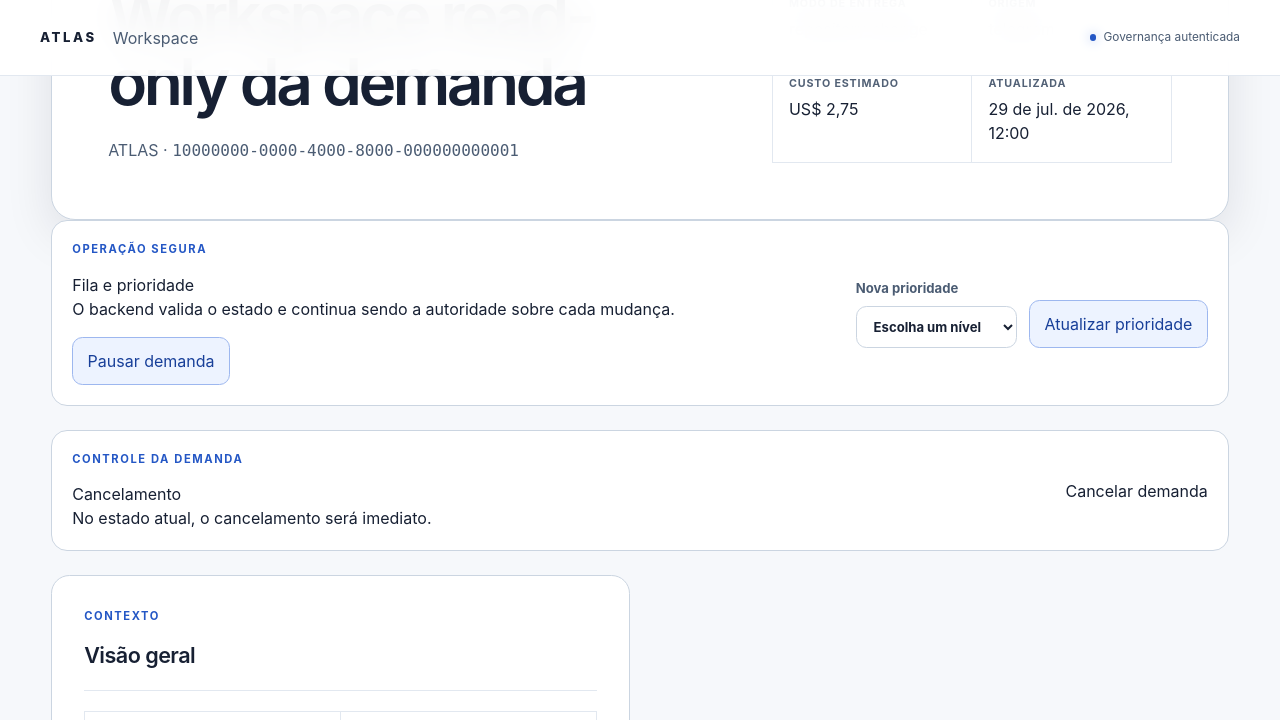
Demand Workspace UI › returns to login on 401 and never renders a remote error body
The image size is (1280, 720).
(page scrolled)
Click the button "Pausar demanda".
click(151, 361)  # box [72, 337, 230, 385]
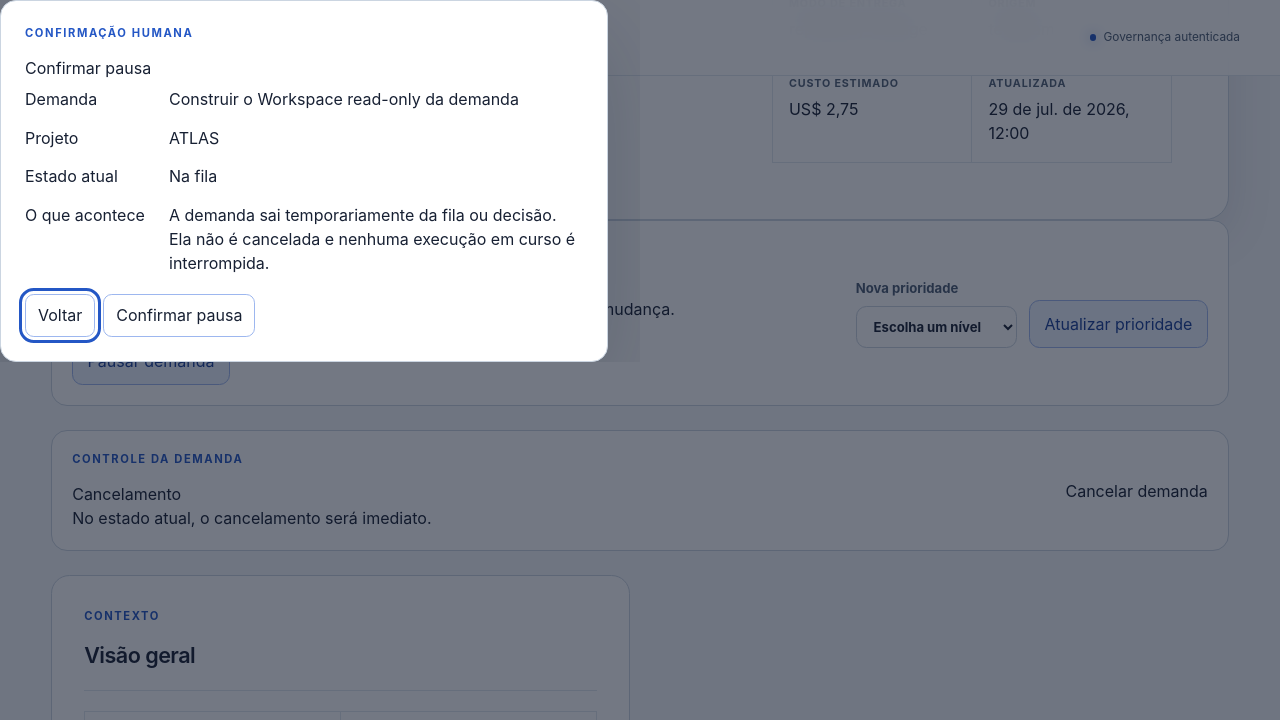
Click the button "Confirmar pausa".
click(179, 316)  # box [103, 294, 256, 337]
(page scrolled)
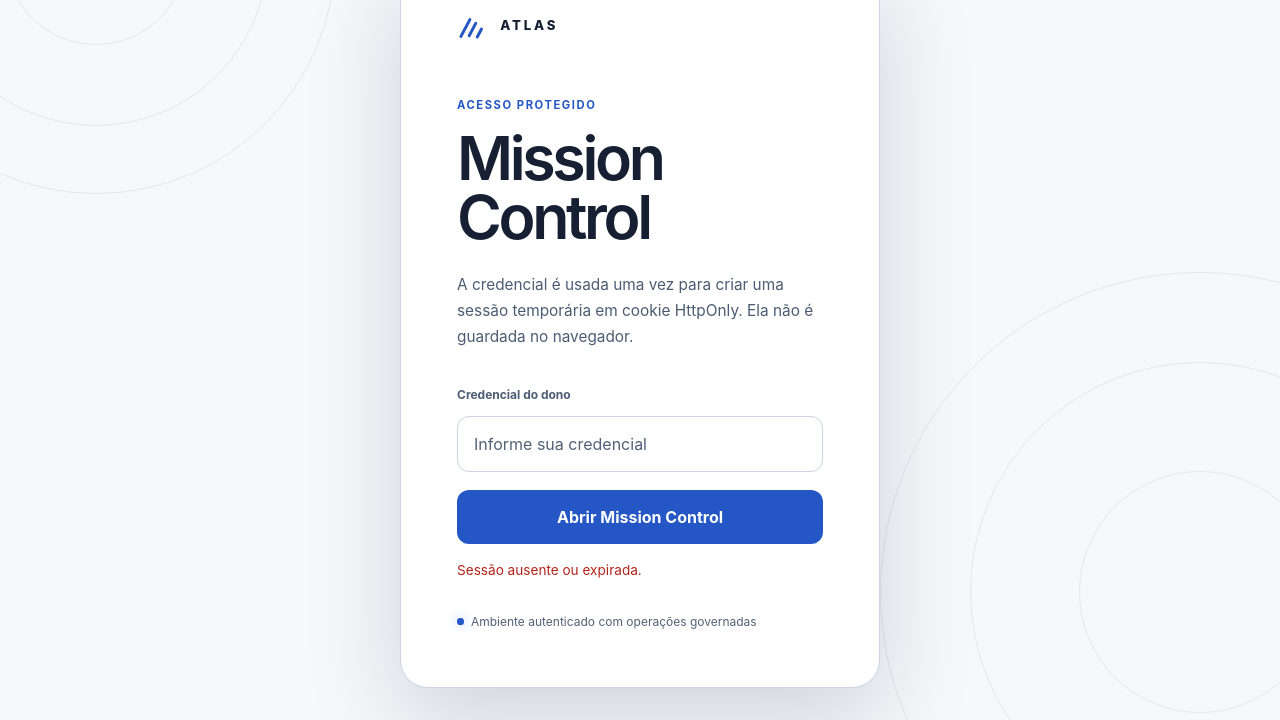
Check: the password field labelled "Credencial do dono" is shown, box [457, 416, 823, 472]
